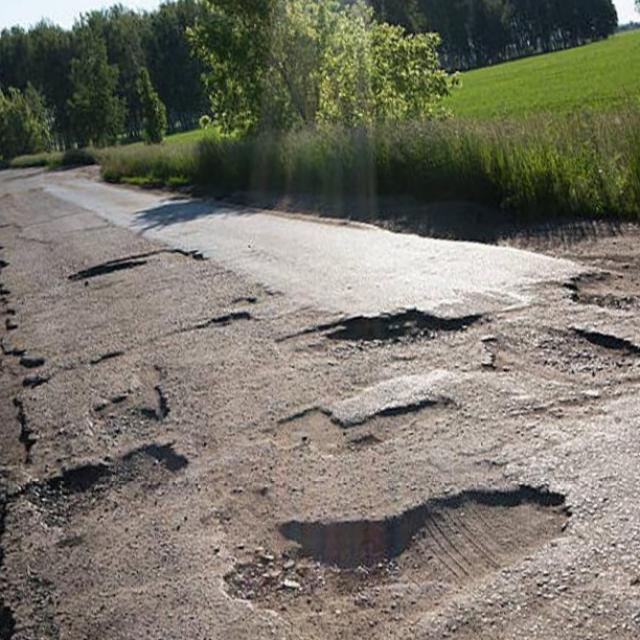Lubang: (210, 480, 570, 632), (24, 446, 197, 521), (278, 314, 480, 368), (489, 327, 635, 378)
Pinggir: (0, 281, 59, 584)
